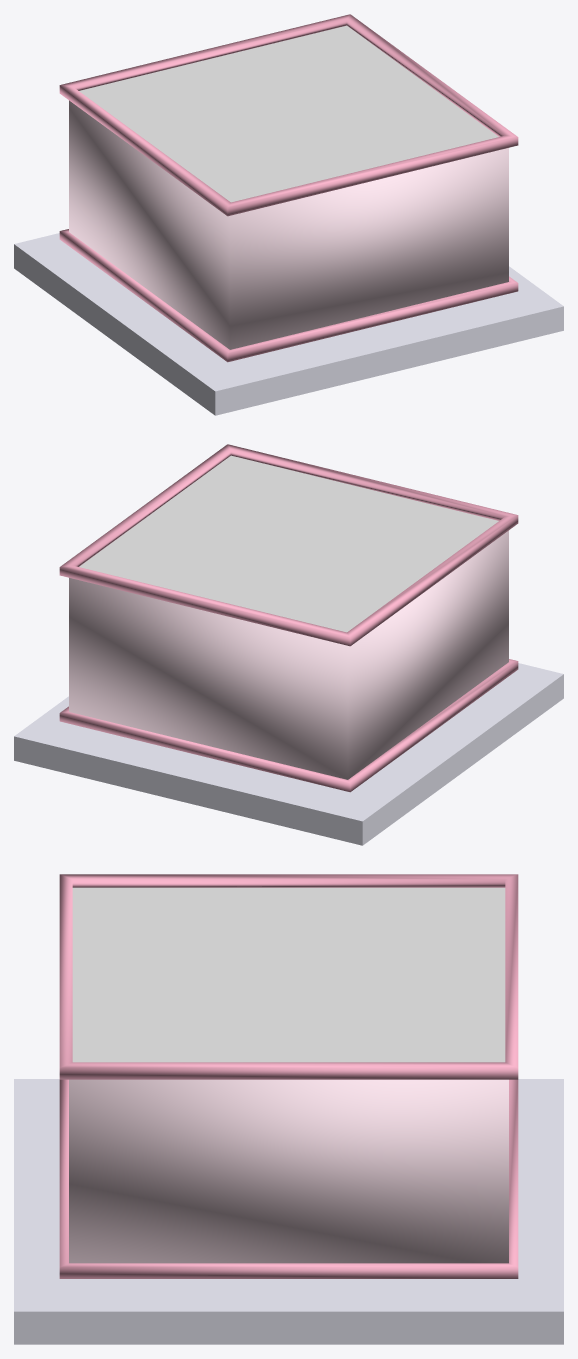
File: square_strawberry_image.glb
3 renders of one model, top to bottom at view 1: azimuth 30°, elevation 25°; view 2: azimuth 150°, elevation 25°; view 3: azimuth 270°, elevation 25°, orthographic. The views are drawn at different scales.
Visible parts, largest first — view 1: CakeBase, CakeTopImage, IcingStand, IcingRing, IcingRing.001; view 2: CakeBase, CakeTopImage, IcingStand, IcingRing, IcingRing.001; view 3: CakeBase, CakeTopImage, IcingStand, IcingRing, IcingRing.001.
Boxes of the visible parts, box(x1,y1,x2,y2) form: CakeBase: box(69, 100, 508, 349); CakeTopImage: box(79, 25, 498, 202); IcingStand: box(14, 233, 563, 415); IcingRing: box(59, 14, 518, 216); IcingRing.001: box(59, 229, 518, 362); CakeBase: box(69, 530, 508, 779); CakeTopImage: box(79, 455, 498, 632); IcingStand: box(14, 663, 563, 845); IcingRing: box(59, 444, 518, 646); IcingRing.001: box(59, 659, 518, 792); CakeBase: box(69, 1079, 508, 1263); CakeTopImage: box(72, 887, 505, 1062); IcingStand: box(14, 1079, 563, 1344); IcingRing: box(59, 874, 518, 1079); IcingRing.001: box(59, 1079, 518, 1278).
Size of the model in its own units: 3 by 1.55 by 3.
